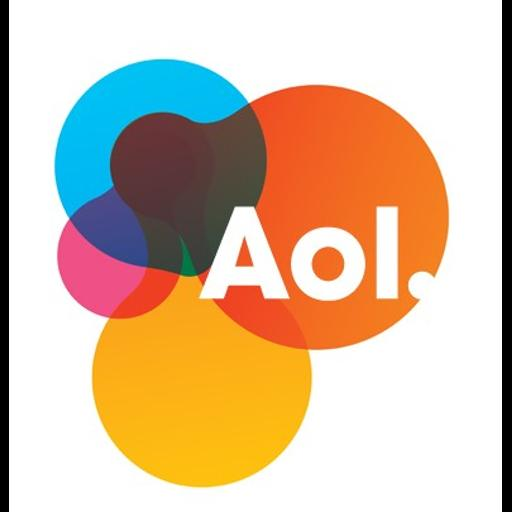AOL: (9, 0, 502, 512)
